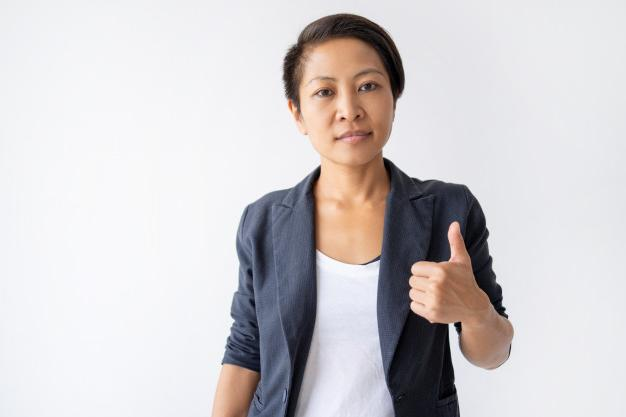thumbsup: (408, 220, 465, 322)
